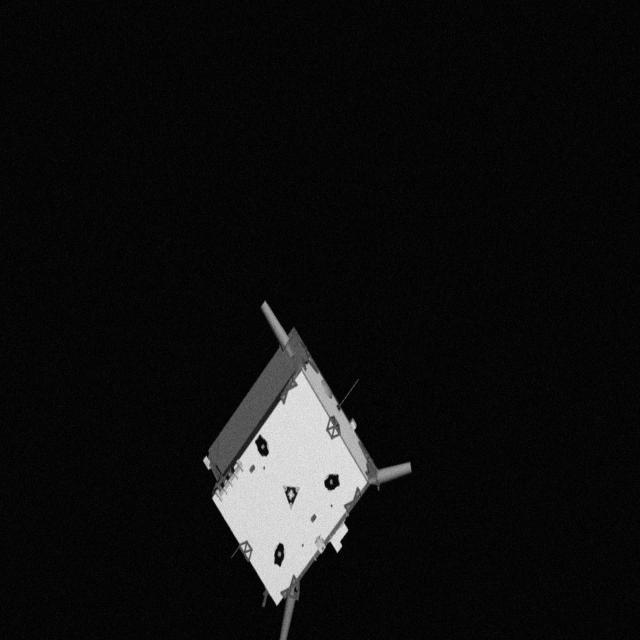satellite: (204, 298, 412, 640)
